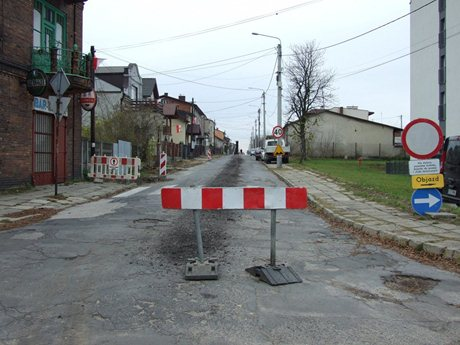no_entry_sign: (399, 119, 445, 158)
